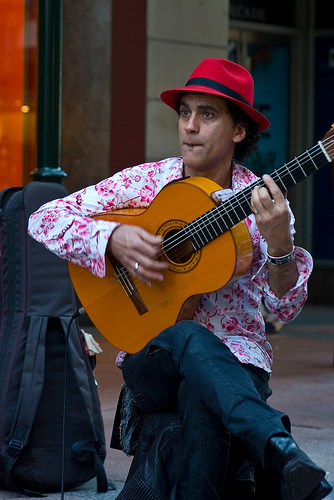guitar: (66, 125, 334, 356)
